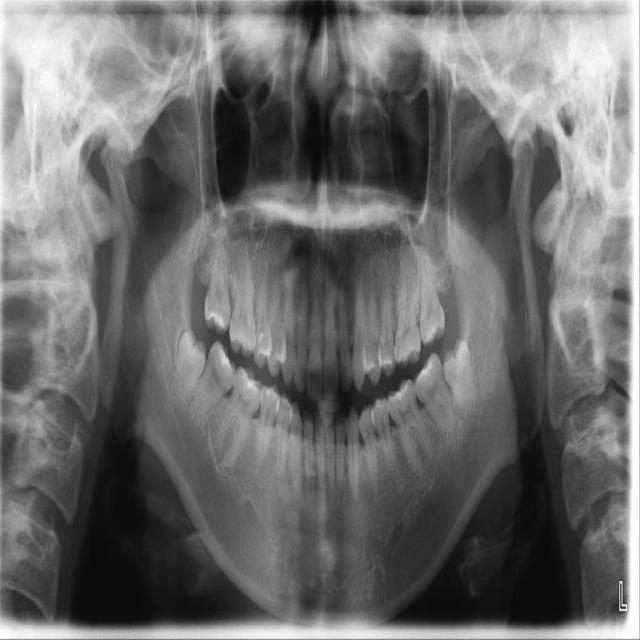52: (219, 361, 276, 418), (373, 373, 427, 430), (403, 349, 453, 407), (200, 337, 247, 397), (203, 289, 232, 336), (374, 334, 401, 380), (258, 382, 282, 419), (253, 326, 272, 368)
73: (592, 588, 596, 600)
BioHorizons Implant: (417, 242, 446, 347)
Biomet 3i Implant: (437, 336, 481, 421)
Blue Sky Bio Implant: (405, 351, 463, 445)
Caries: (204, 226, 231, 335)
Implant: (189, 338, 246, 427)
Keystone Dental Implant: (165, 329, 212, 410)
